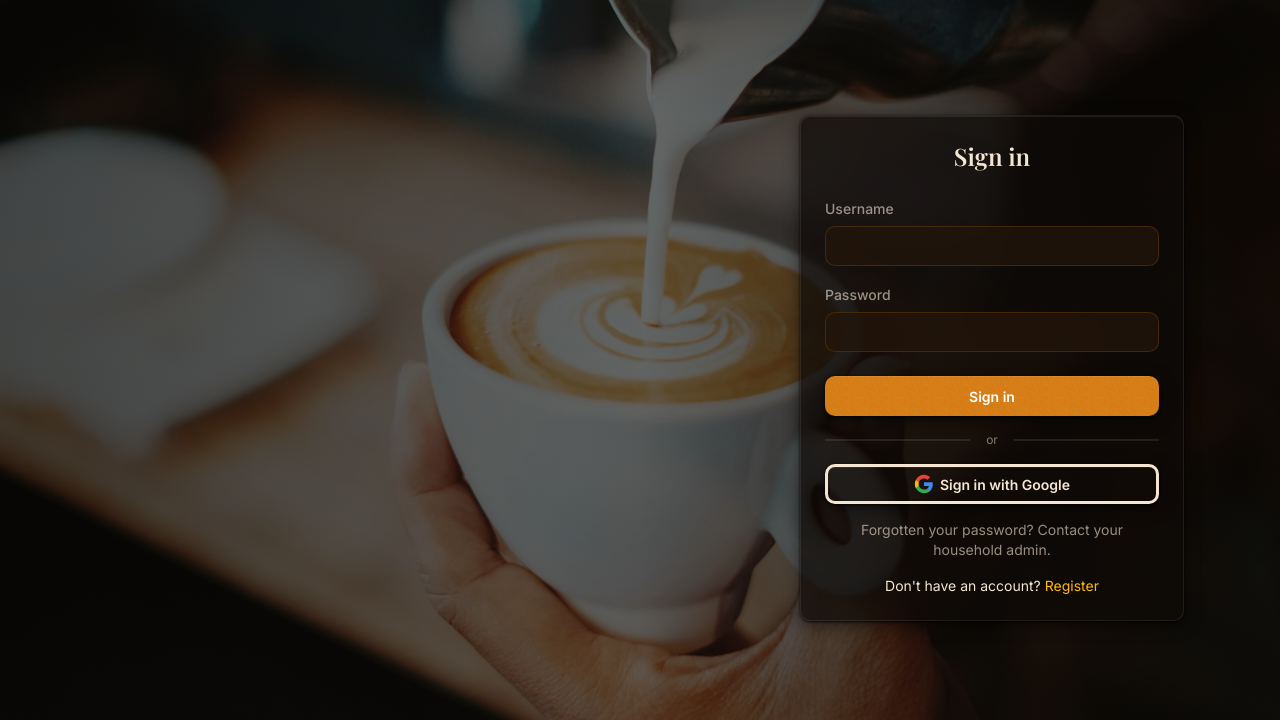
Test: Login page › shows error message on 401 response
Type "testuser" into the field labelled "Username" at (992, 246), box top-left (825, 226), bottom-right (1159, 266)
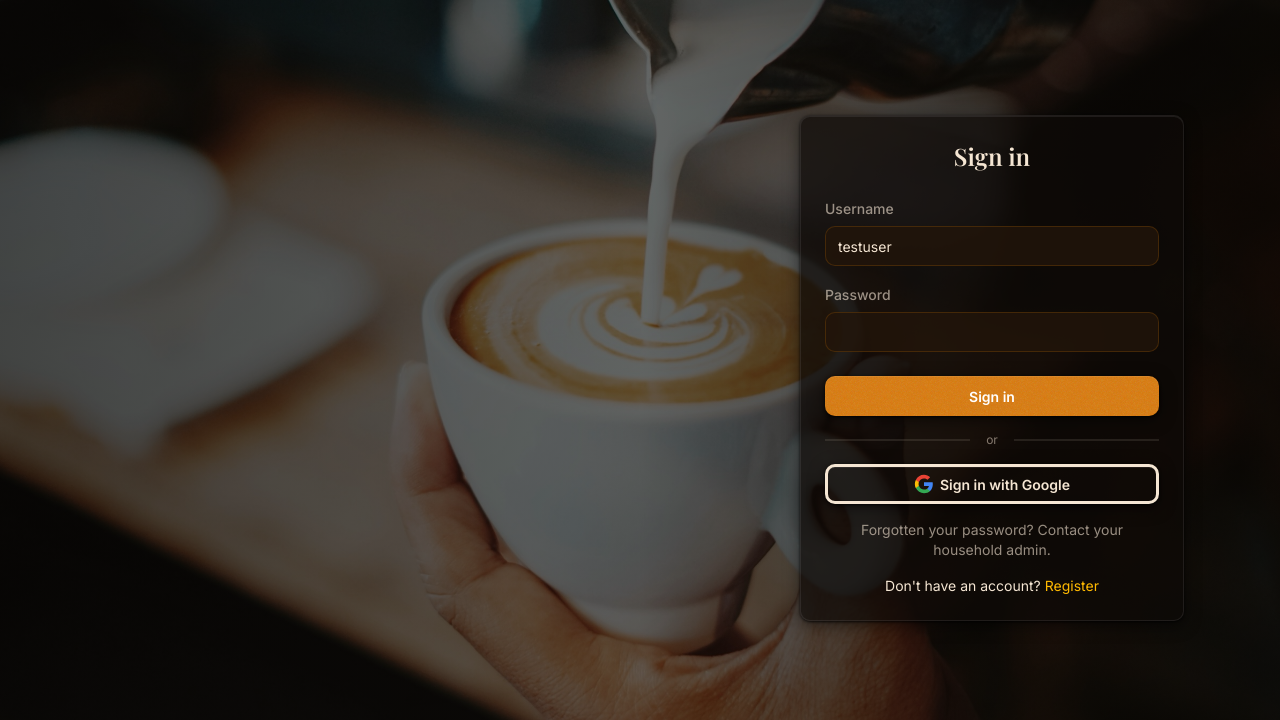
Type "testpassword" into the password field labelled "Password" at (992, 332), box top-left (825, 312), bottom-right (1159, 352)
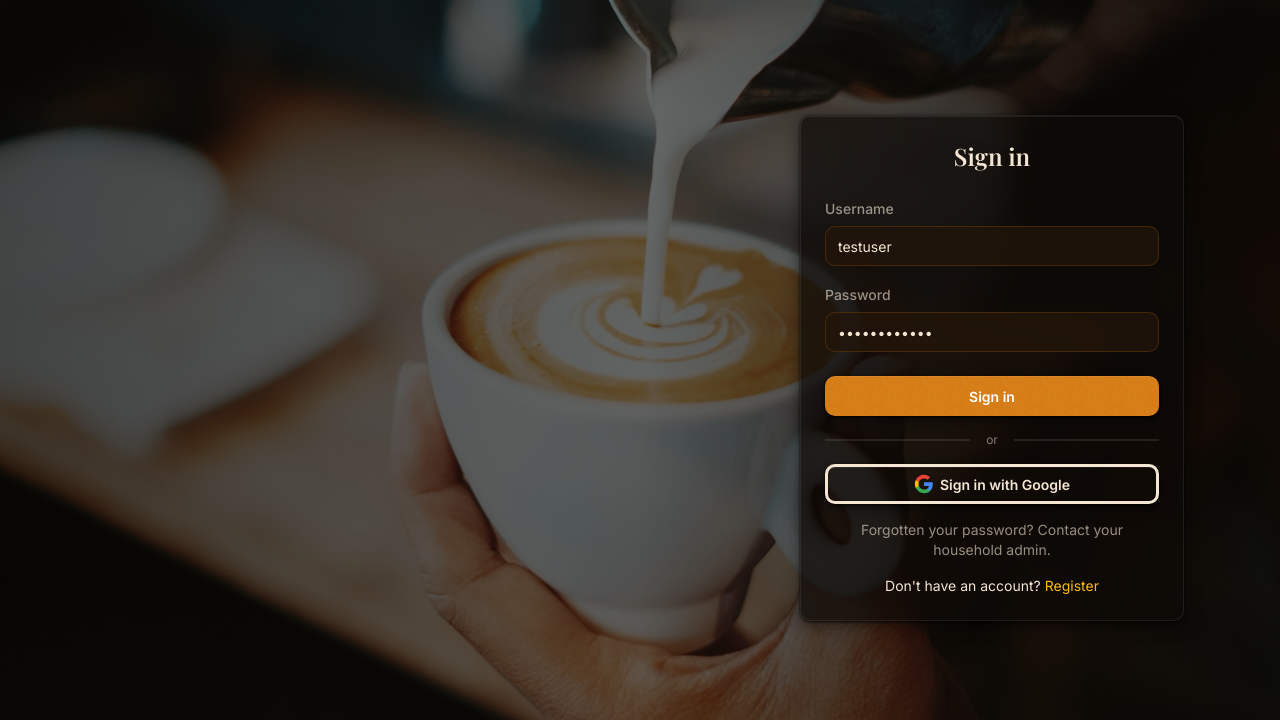
Click the button "Sign in" at (992, 396), box top-left (825, 376), bottom-right (1159, 416)
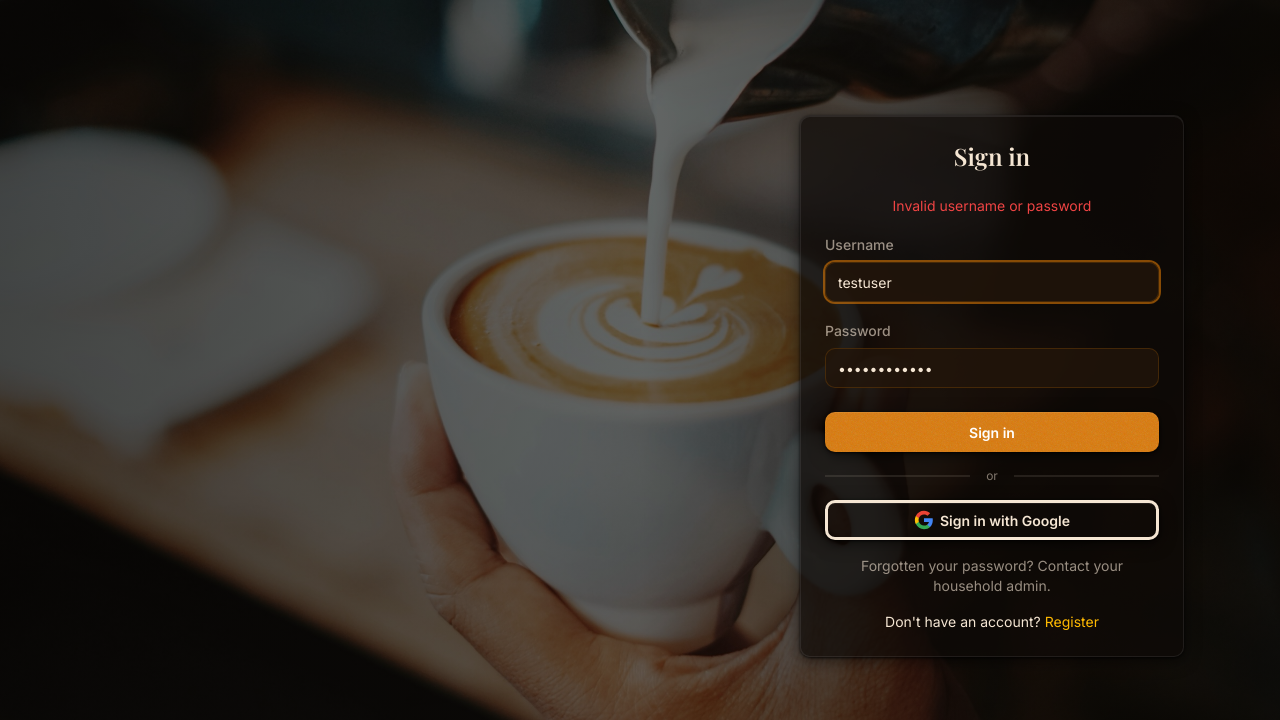
Expected: the message reads "Invalid username or password", top-left (893, 197), bottom-right (1091, 214)
